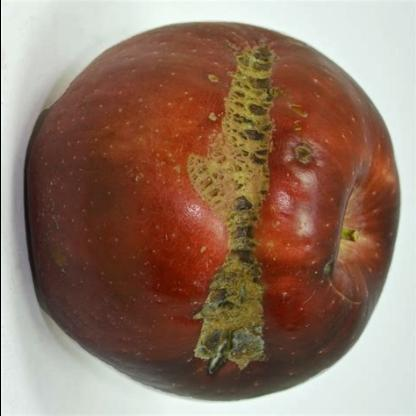defect: (150, 36, 322, 384)
